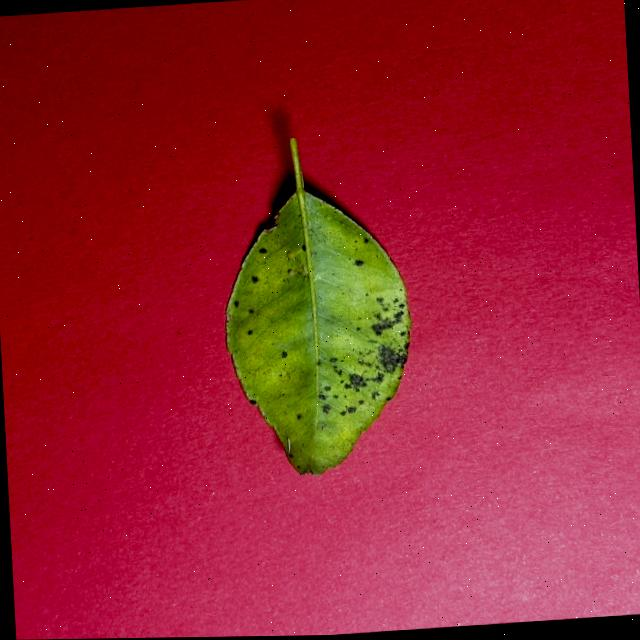sooty_mold: (226, 140, 411, 475)
